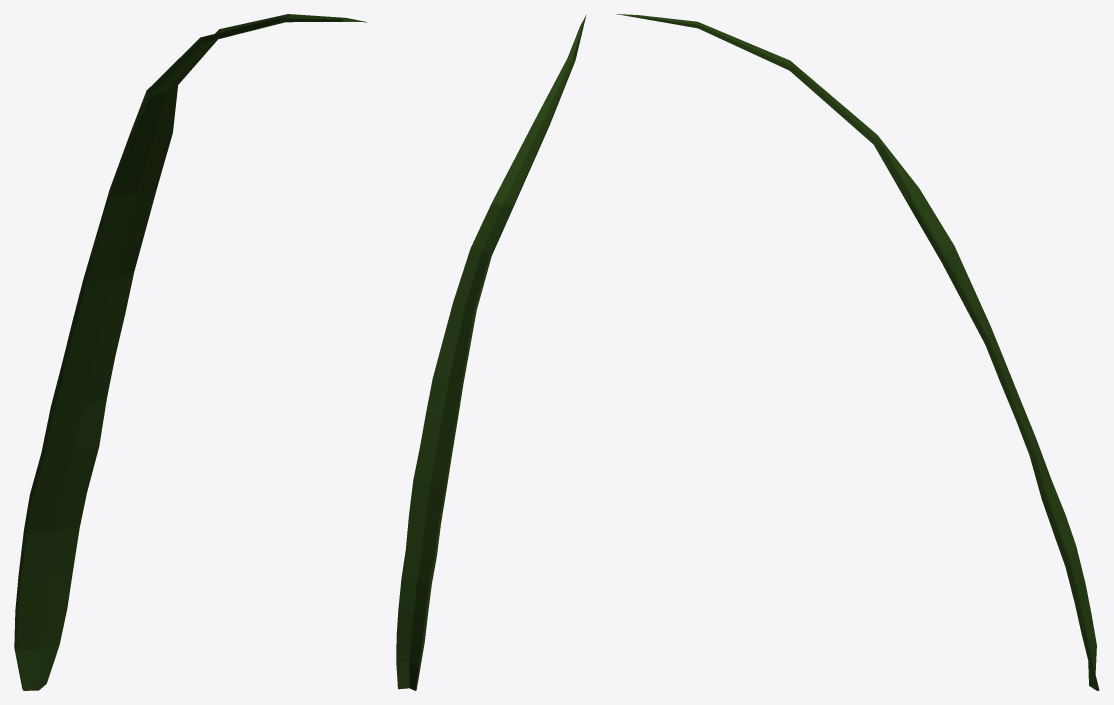
The model's file is Left_leaf.fbx.
3 views of the same model, side by side, from view 1: azimuth 30°, elevation 25°; view 2: azimuth 150°, elevation 25°; view 3: azimuth 270°, elevation 25° (orthographic). The views are drawn at different scales.
Parts seen in each view (by area): view 1: Left Leaf; view 2: Left Leaf; view 3: Left Leaf.
Boxes of the visible parts, x1,y1,x2,y2 form: Left Leaf: (14, 14, 367, 690); Left Leaf: (396, 15, 586, 690); Left Leaf: (616, 14, 1099, 690).
Bounding box in the file's own units: 84.85 × 1116 × 722.
